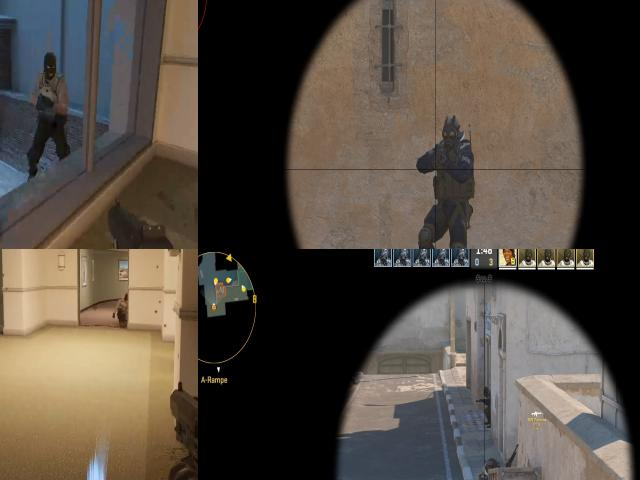CT: (424, 113, 473, 249), (483, 387, 490, 426)
CT-Head: (442, 115, 459, 150), (488, 459, 498, 468), (484, 387, 489, 397)
Dead: (108, 293, 131, 330)
T: (32, 50, 67, 134)
T-Head: (40, 48, 61, 90)
